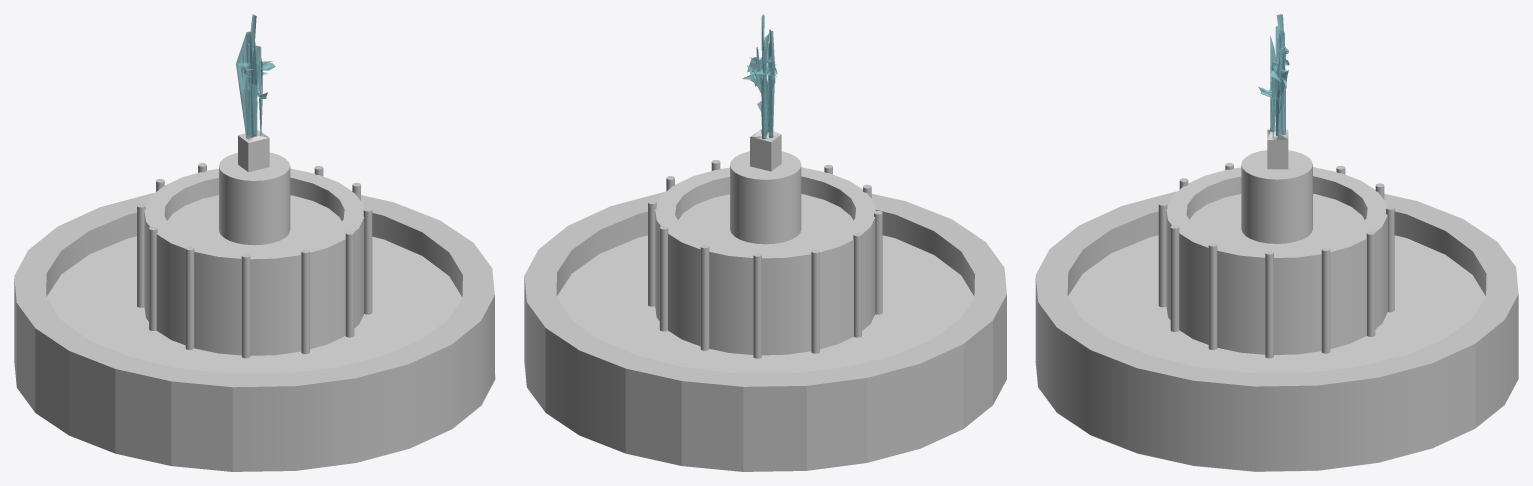
3 views of the same model, side by side, from view 1: azimuth 30°, elevation 25°; view 2: azimuth 150°, elevation 25°; view 3: azimuth 270°, elevation 25° (orthographic).
Parts seen in each view (by area): view 1: Mesh1_Component_2_1_Model; view 2: Mesh1_Component_2_1_Model; view 3: Mesh1_Component_2_1_Model.
Boxes of the visible parts, left/top/right/bottom form: Mesh1_Component_2_1_Model: left=14, top=14, right=495, bottom=471; Mesh1_Component_2_1_Model: left=524, top=14, right=1006, bottom=471; Mesh1_Component_2_1_Model: left=1035, top=14, right=1518, bottom=471.
Bounding box in the file's own units: 3.2 × 3.2 × 2.6.
